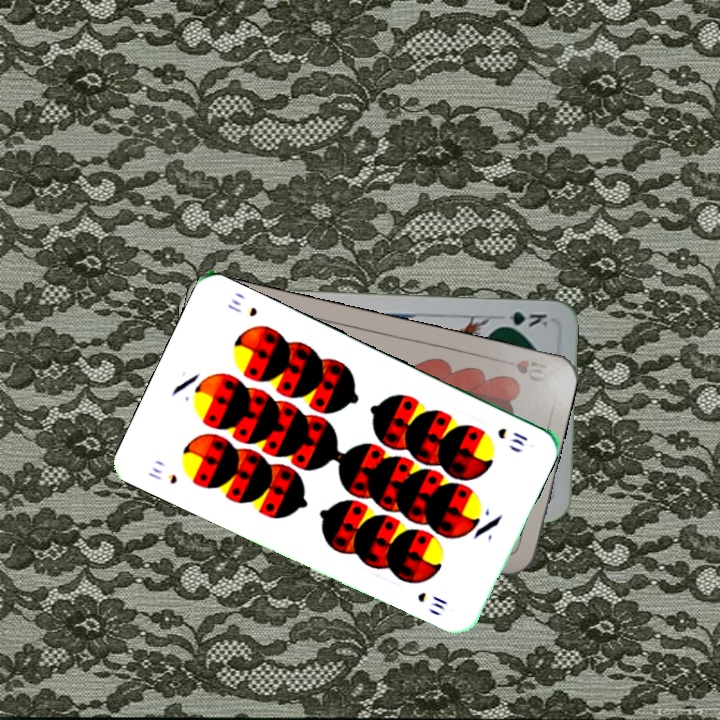GK: (493, 307, 550, 330)
H10: (512, 356, 551, 385)
S10: (493, 423, 531, 449), (144, 463, 180, 487)
